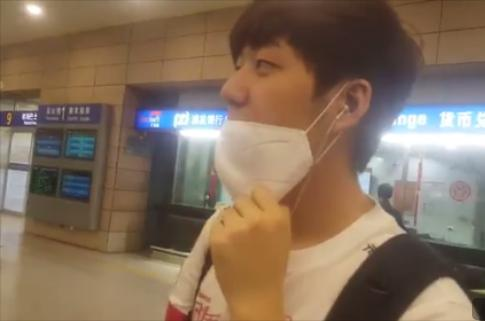WRONG: (206, 44, 359, 197)
